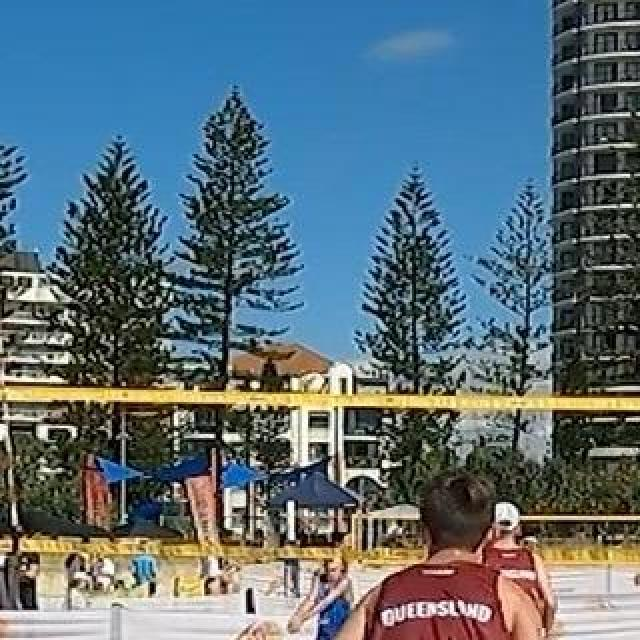volleyball: (296, 370, 328, 400)
